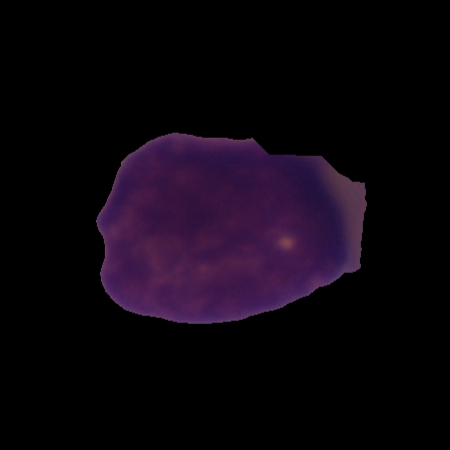ALL: (92, 127, 371, 328)
